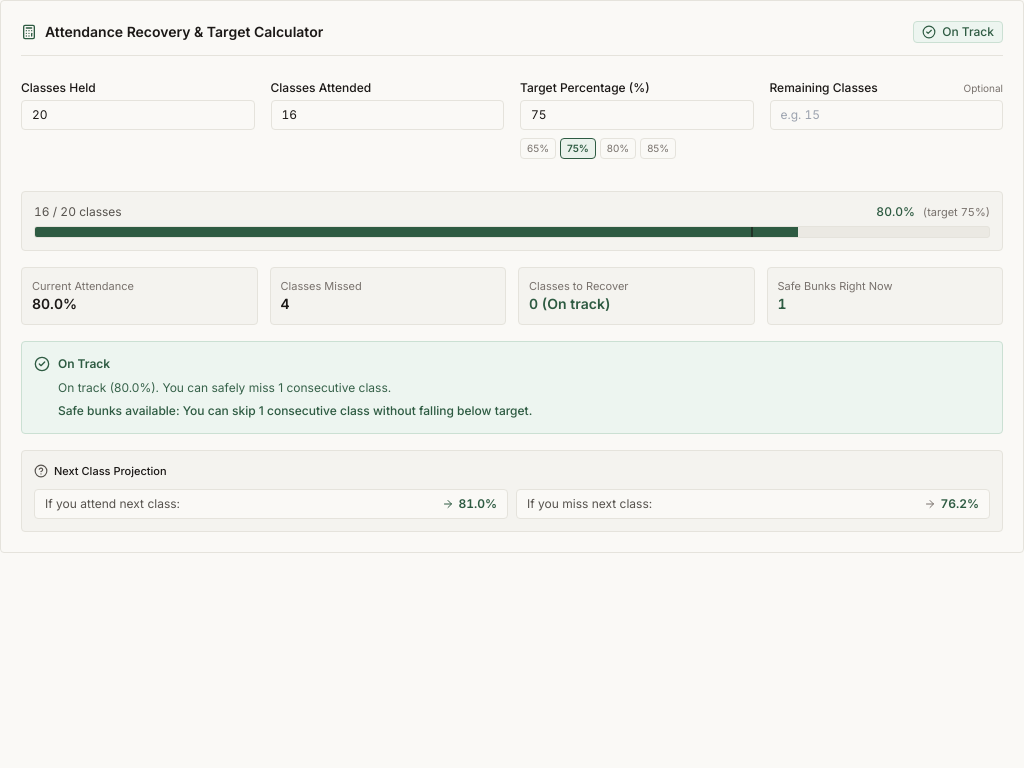
Test: AttendanceCalculator Component › updates target via quick preset buttons
Click the button "80%" at (618, 148), box [600,138,636,159]
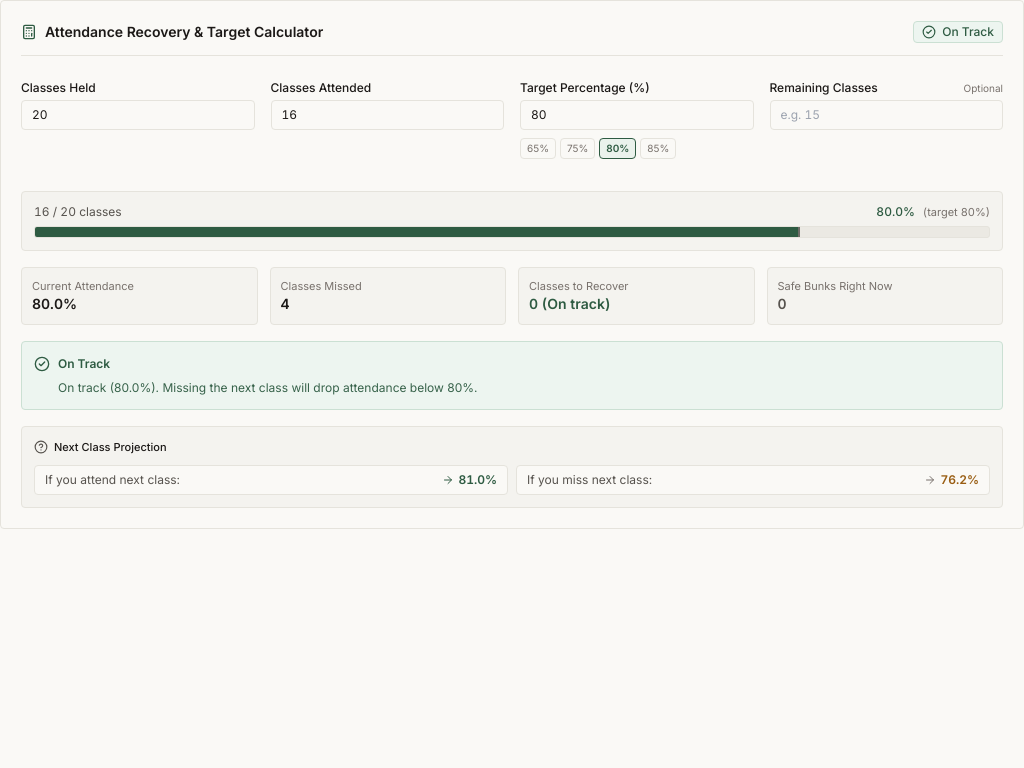
Expected: the number field labelled "Target Percentage (%)" holds "80", [520,100,754,130]
